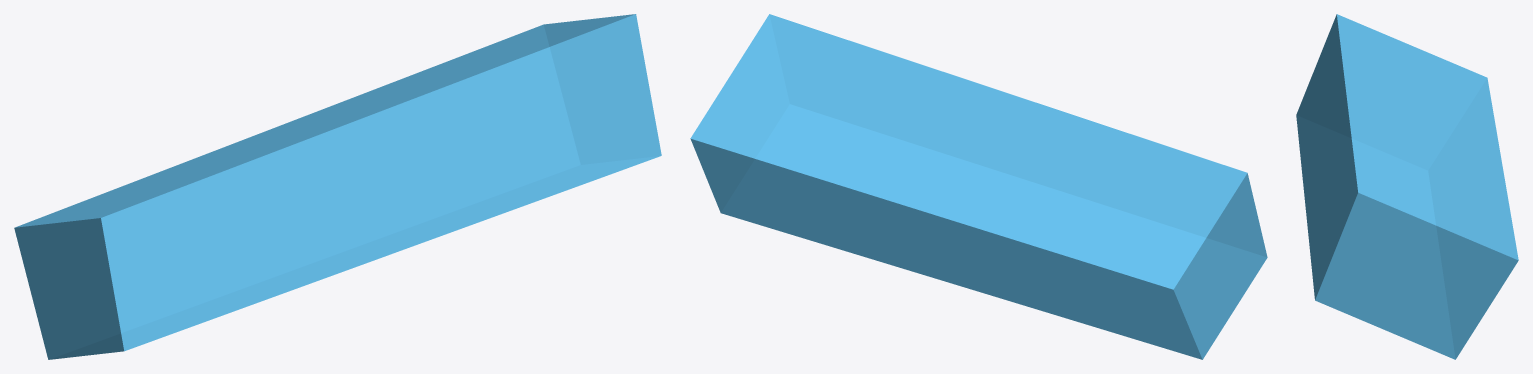
The model's file is Event_420107950_HErechit_38.fbx.
The picture shows the model from 3 angles, left to right: view 1: azimuth 30°, elevation 25°; view 2: azimuth 150°, elevation 25°; view 3: azimuth 270°, elevation 25°; orthographic projection. The views are drawn at different scales.
Parts seen in each view (by area): view 1: Model; view 2: Model; view 3: Model.
Boxes of the visible parts, <box> form: Model: <box>14,14,661,359</box>; Model: <box>690,14,1267,359</box>; Model: <box>1296,14,1518,359</box>.
Bounding box in the file's own units: 0.6683 × 0.2817 × 0.2705.
